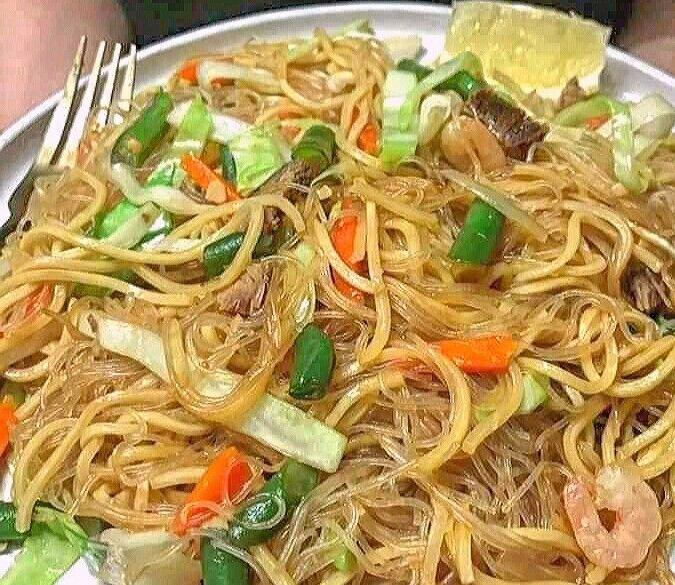pancit bihon: (5, 27, 675, 558)
